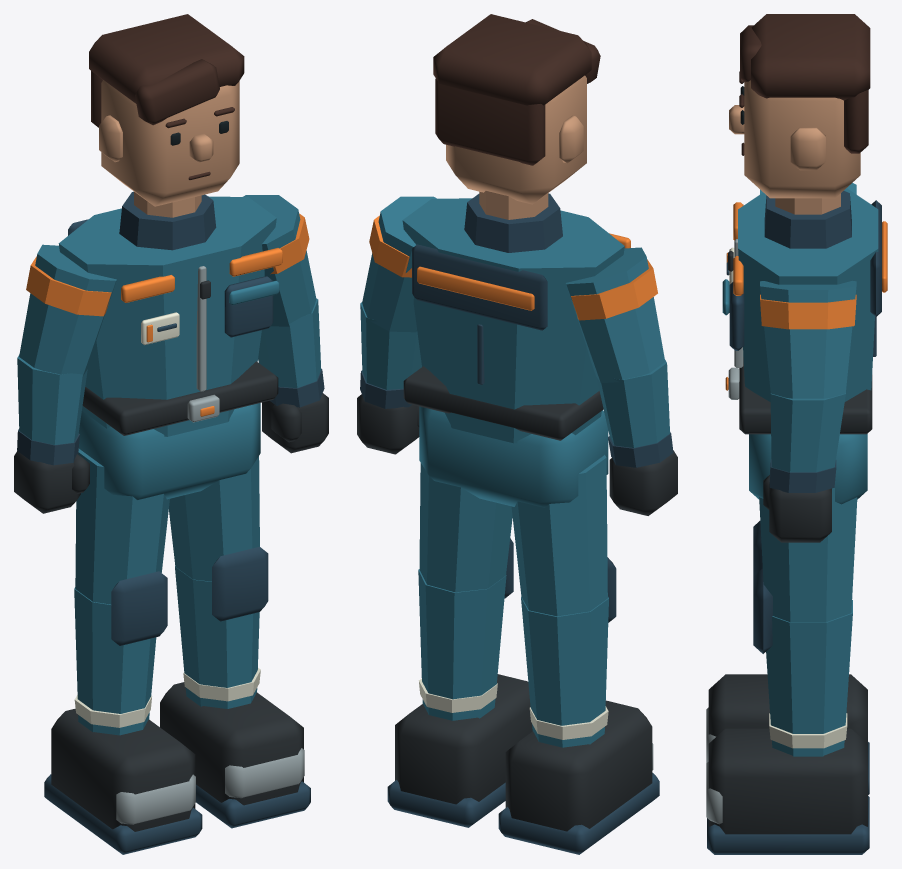
The model's file is player.glb.
The picture shows the model from 3 angles, left to right: view 1: azimuth 30°, elevation 25°; view 2: azimuth 150°, elevation 25°; view 3: azimuth 270°, elevation 25°; orthographic projection. The views are drawn at different scales.
Visible parts, largest first — view 1: Torso, Hips, Head, Right boot, Left boot, Right thigh, Hair cap, Right shin, Left thigh, Left shin, Right sleeve, Belt (+29 smaller); view 2: Torso, Right boot, Hips, Right thigh, Left boot, Hair cap, Right shin, Left shin, Left thigh, Right sleeve, Head, Hair back (+19 smaller); view 3: Left boot, Torso, Left shin, Hair cap, Head, Left thigh, Left sleeve, Left forearm, Right boot, Left sole, Hips, Collar (+18 smaller).
Boxes of the visible parts, x1,y1,x2,y2 form: Torso: [58, 196, 276, 436]; Hips: [78, 403, 260, 499]; Head: [101, 80, 239, 206]; Right boot: [51, 708, 195, 831]; Left boot: [160, 682, 303, 805]; Right thigh: [75, 448, 169, 604]; Hair cap: [89, 14, 244, 103]; Right shin: [74, 587, 156, 735]; Left thigh: [169, 456, 259, 581]; Left shin: [175, 566, 259, 708]; Right sleeve: [19, 244, 116, 376]; Belt: [82, 361, 278, 435]; Torso: [402, 198, 624, 443]; Right boot: [505, 700, 652, 831]; Hips: [419, 406, 608, 507]; Right thigh: [511, 455, 607, 616]; Left boot: [395, 674, 532, 804]; Hair cap: [433, 14, 591, 105]; Right shin: [521, 597, 608, 747]; Left shin: [418, 569, 506, 720]; Left thigh: [419, 463, 512, 592]; Right sleeve: [565, 247, 665, 383]; Head: [446, 75, 586, 204]; Hair back: [435, 78, 545, 165]; Left boot: [708, 728, 867, 834]; Torso: [738, 188, 878, 401]; Left shin: [766, 600, 852, 756]; Hair cap: [751, 14, 870, 100]; Head: [744, 80, 860, 198]; Left thigh: [759, 488, 857, 622]; Left sleeve: [760, 280, 856, 398]; Left forearm: [770, 393, 845, 472]; Right boot: [708, 674, 867, 743]; Left sole: [707, 796, 869, 854]; Hips: [749, 434, 867, 504]; Collar: [764, 191, 851, 248].
Bounding box in the file's own units: 0.735 × 1.8 × 0.3815.
